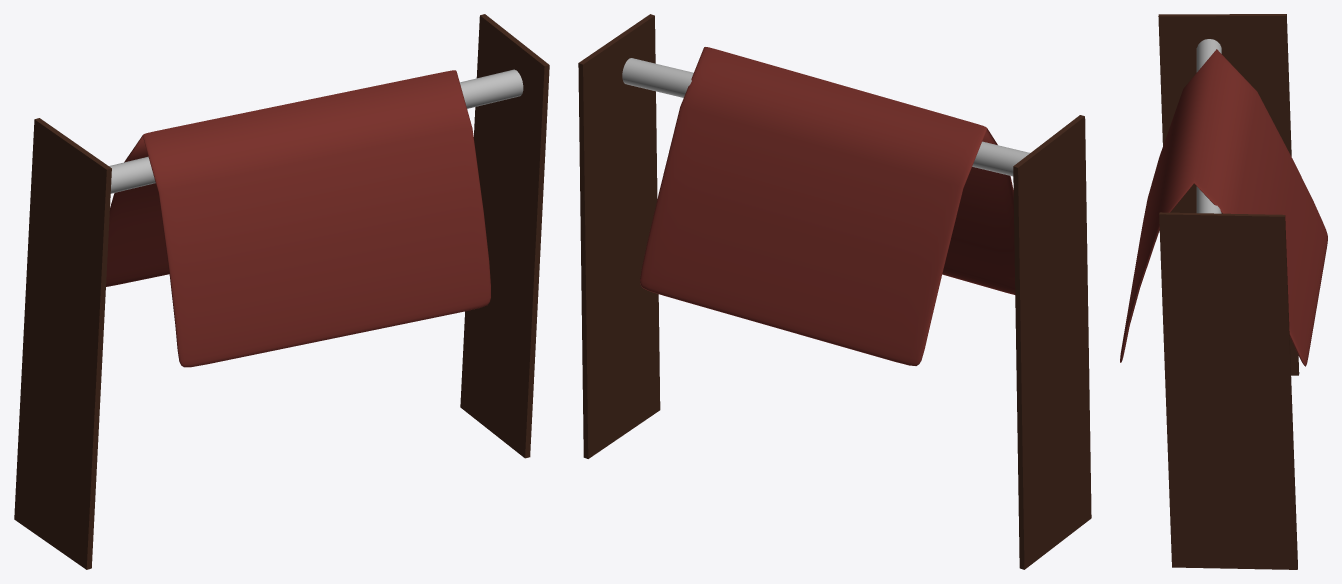
The model's file is teppich.obj.
The picture shows the model from 3 angles, left to right: view 1: azimuth 30°, elevation 25°; view 2: azimuth 150°, elevation 25°; view 3: azimuth 270°, elevation 25°; orthographic projection. The views are drawn at different scales.
Parts seen in each view (by area): view 1: Box004, Box002, Box003, Cylinder001; view 2: Box004, Box002, Box003, Cylinder001; view 3: Box003, Box004, Box002, Cylinder001.
Part boxes in pixels (left/top/right/bottom): Box004: left=106, top=70, right=491, bottom=367; Box002: left=14, top=118, right=111, bottom=569; Box003: left=460, top=14, right=549, bottom=458; Cylinder001: left=109, top=69, right=523, bottom=193; Box004: left=640, top=47, right=1015, bottom=365; Box002: left=1013, top=115, right=1091, bottom=569; Box003: left=578, top=14, right=660, bottom=458; Cylinder001: left=622, top=58, right=1029, bottom=176; Box003: left=1159, top=212, right=1297, bottom=569; Box004: left=1120, top=49, right=1327, bottom=366; Box002: left=1158, top=14, right=1299, bottom=375; Cylinder001: left=1196, top=39, right=1221, bottom=213.
Bounding box in the file's own units: 4.88 × 4.06 × 2.09.
